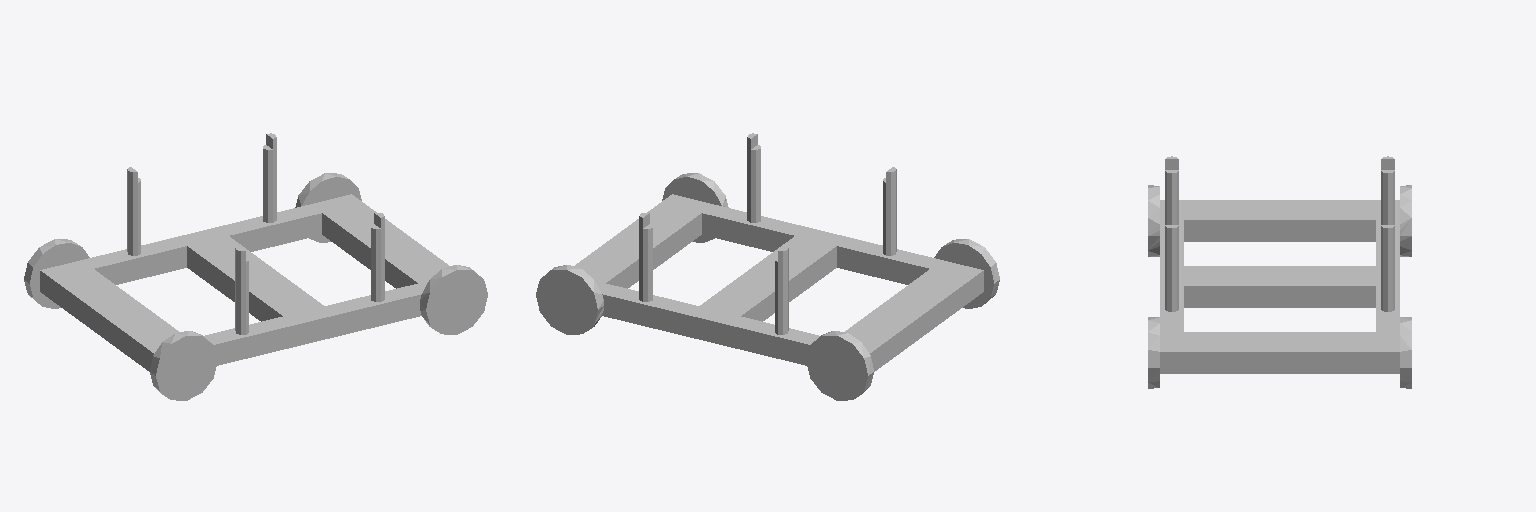
The model's file is cardesign.obj.
3 renders of one model, left to right at view 1: azimuth 30°, elevation 25°; view 2: azimuth 150°, elevation 25°; view 3: azimuth 270°, elevation 25°, orthographic.
Visible parts, largest first — view 1: cardesign; view 2: cardesign; view 3: cardesign.
Part boxes in pixels (x1,y1,x2,y2): cardesign: (24,133,487,400); cardesign: (536,133,999,400); cardesign: (1148,156,1411,388).
Bounding box in the file's own units: 160 × 58.5 × 110.